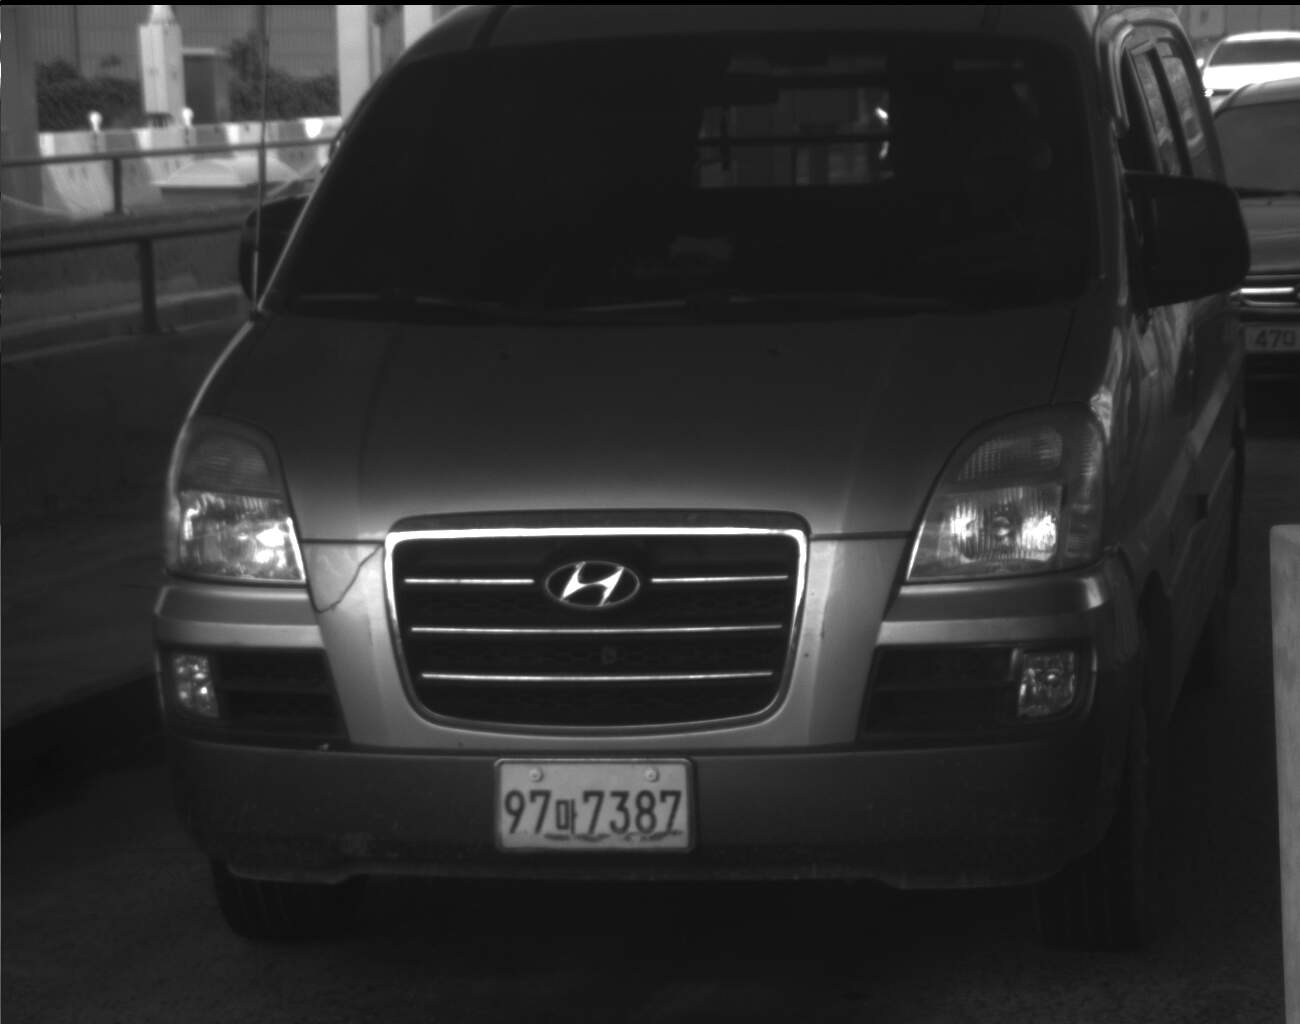car: (142, 1, 1253, 950)
plate: (491, 757, 695, 855)
